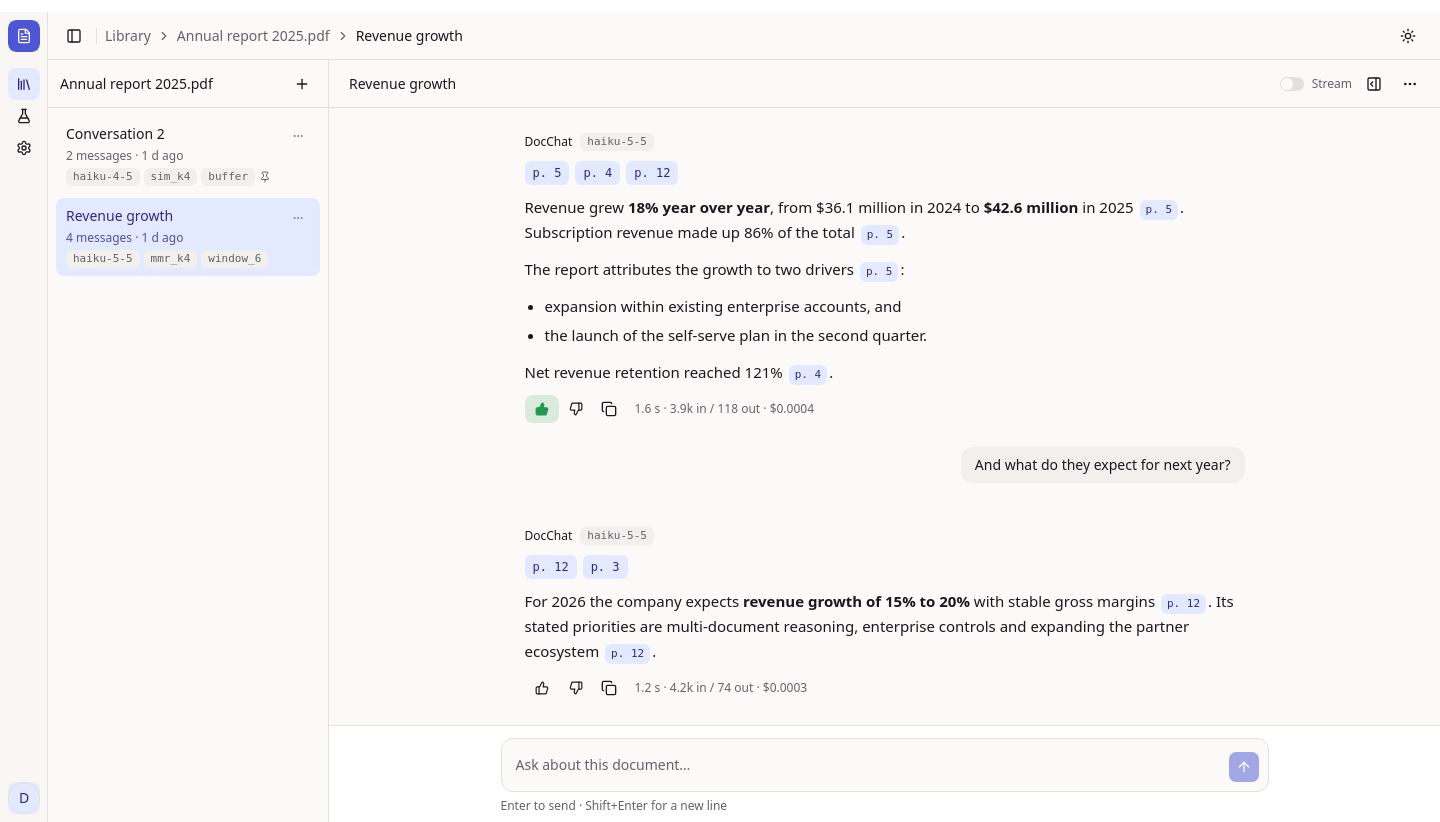
Test: chat › keeps the message and offers Retry when sending fails
(page scrolled)
Expected: the element named "Messages" is shown, [500,108,1268,725]
Type "What are the main risks?" into the text box labelled "Ask about this document" at coordinates (864, 765), box [510,747,1220,783]
Then press Enter
(page scrolled)
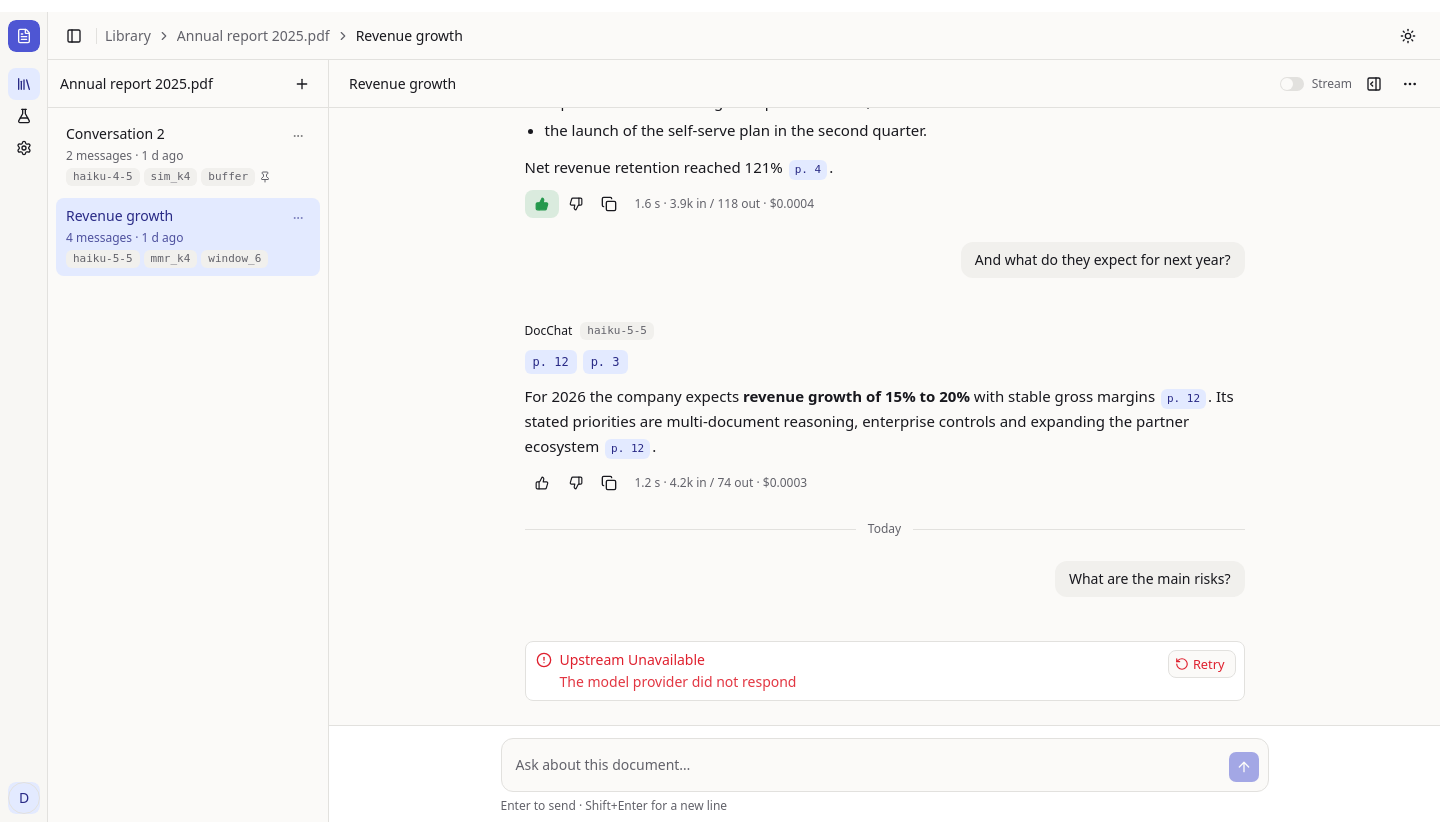
Expected: the text "Upstream Unavailable" is shown, [560,650,705,669]
Expected: the text "What are the main risks?" is shown, [1055,561,1244,597]
Click the button "Retry" at coordinates (1202, 664), box [1168,650,1236,678]
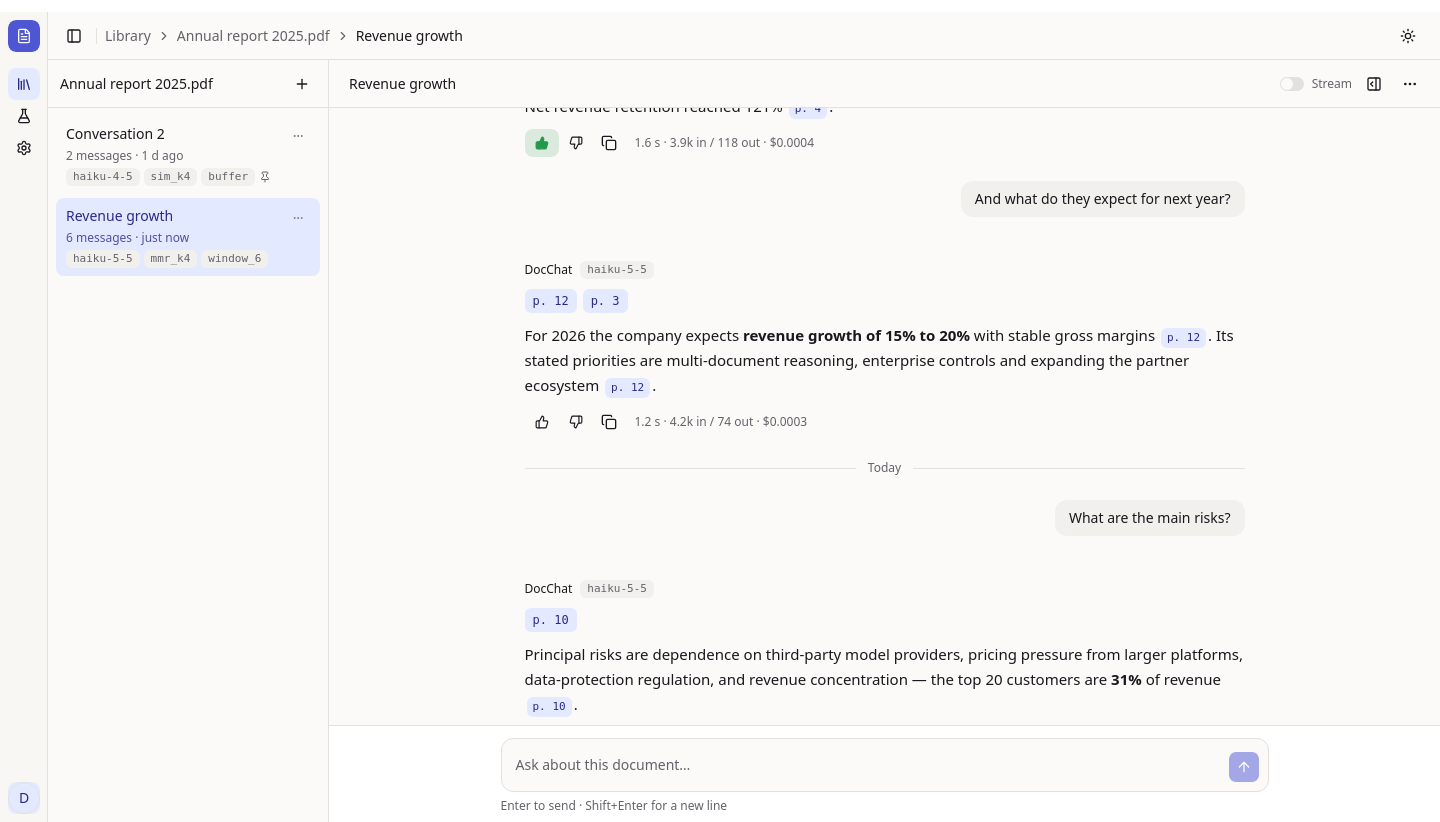
Expected: the text "What are the main risks?" is shown once, [1055,500,1244,536]
Expected: the text "Principal risks are" is shown, [524,644,1243,689]
